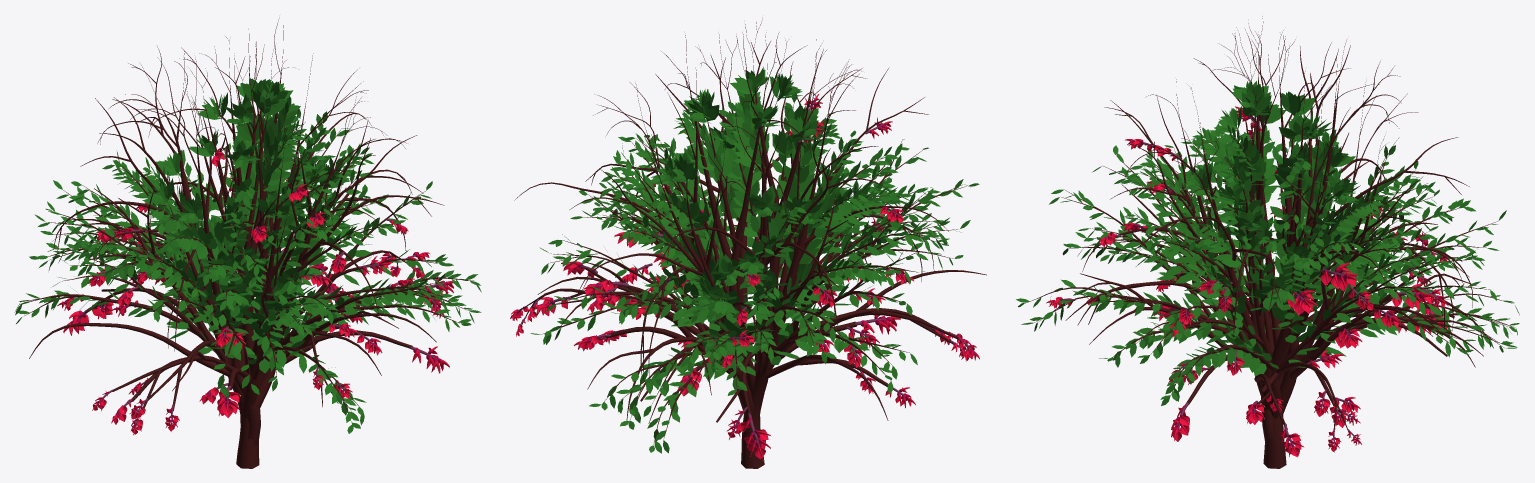
File: ceibo.glb
3 views of the same model, side by side, from view 1: azimuth 30°, elevation 25°; view 2: azimuth 150°, elevation 25°; view 3: azimuth 270°, elevation 25° (orthographic). The views are drawn at different scales.
Parts seen in each view (by area): view 1: Object_2, Object_3, Object_7, Object_6, Object_8, Object_5, Object_4; view 2: Object_2, Object_3, Object_6, Object_7, Object_8, Object_5, Object_4; view 3: Object_2, Object_3, Object_6, Object_7, Object_8, Object_5, Object_4.
Boxes of the visible parts, bbox=[...] form: Object_2: bbox=[14, 78, 481, 433]; Object_3: bbox=[21, 18, 473, 468]; Object_7: bbox=[57, 148, 453, 434]; Object_6: bbox=[63, 177, 382, 431]; Object_8: bbox=[61, 150, 453, 431]; Object_5: bbox=[63, 153, 448, 428]; Object_4: bbox=[74, 190, 445, 425]; Object_2: bbox=[530, 67, 979, 453]; Object_3: bbox=[514, 17, 986, 468]; Object_6: bbox=[581, 218, 950, 459]; Object_7: bbox=[510, 94, 971, 452]; Object_8: bbox=[539, 102, 979, 439]; Object_5: bbox=[513, 99, 975, 447]; Object_4: bbox=[516, 101, 973, 444]; Object_2: bbox=[1016, 80, 1519, 405]; Object_3: bbox=[1025, 16, 1515, 468]; Object_6: bbox=[1046, 206, 1449, 424]; Object_7: bbox=[1054, 106, 1434, 457]; Object_8: bbox=[1090, 109, 1442, 456]; Object_5: bbox=[1053, 110, 1447, 447]; Object_4: bbox=[1062, 116, 1443, 444].
Size of the model in its own units: 5.33 by 5.44 by 5.78.
